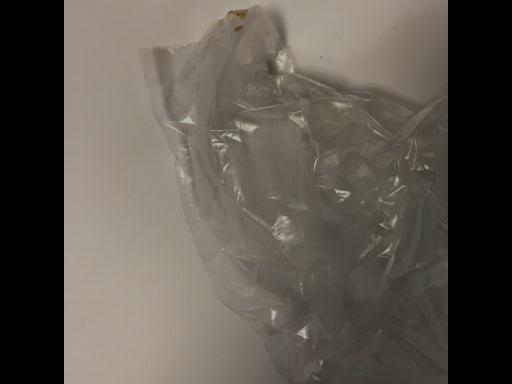trash: (138, 4, 444, 381)
